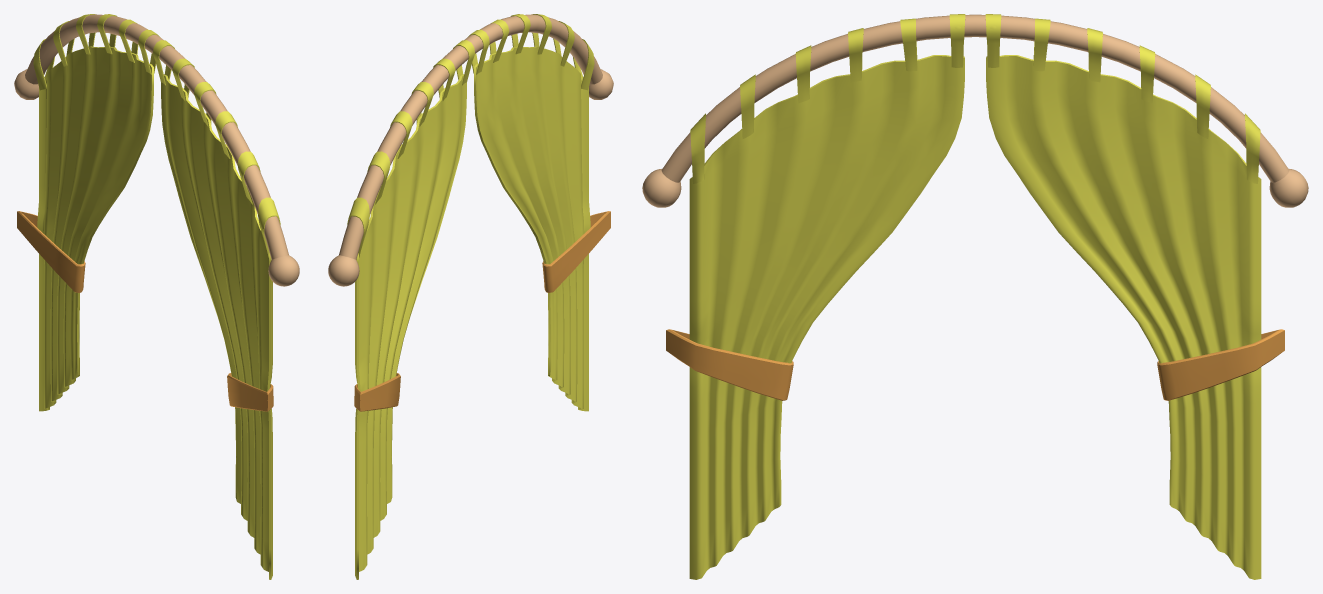
The model's file is Curtain2.glb.
3 renders of one model, left to right at view 1: azimuth 30°, elevation 25°; view 2: azimuth 150°, elevation 25°; view 3: azimuth 270°, elevation 25°, orthographic. The views are drawn at different scales.
Visible parts, largest first — view 1: Curtains; view 2: Curtains; view 3: Curtains.
Boxes of the visible parts, box(x1,y1,x2,y2) form: Curtains: box(14, 14, 299, 579); Curtains: box(328, 14, 613, 579); Curtains: box(642, 14, 1308, 579).
Size of the model in its own units: 0.143 by 2.22 by 2.37.
Materials: 2 (1 with a texture image).
